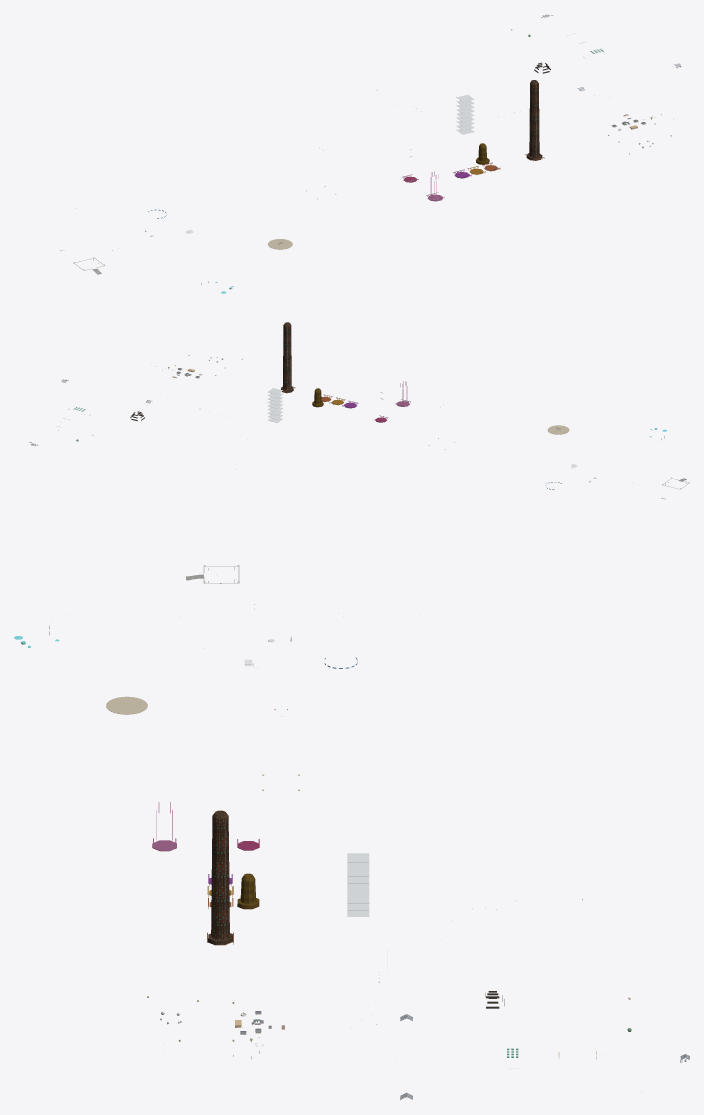
Rendered from pack_27.glb.
3 renders of one model, top to bottom at view 1: azimuth 30°, elevation 25°; view 2: azimuth 150°, elevation 25°; view 3: azimuth 270°, elevation 25°, orthographic. The views are drawn at different scales.
Visible parts, largest first — view 1: pack_27; view 2: pack_27; view 3: pack_27.
Boxes of the visible parts, x1,y1,x2,y2 form: pack_27: (59,14,681,293); pack_27: (29,322,689,498); pack_27: (14,565,689,1100).
Size of the model in its own units: 2543 by 287 by 1358.
Materials: 95 (3 with a texture image).
